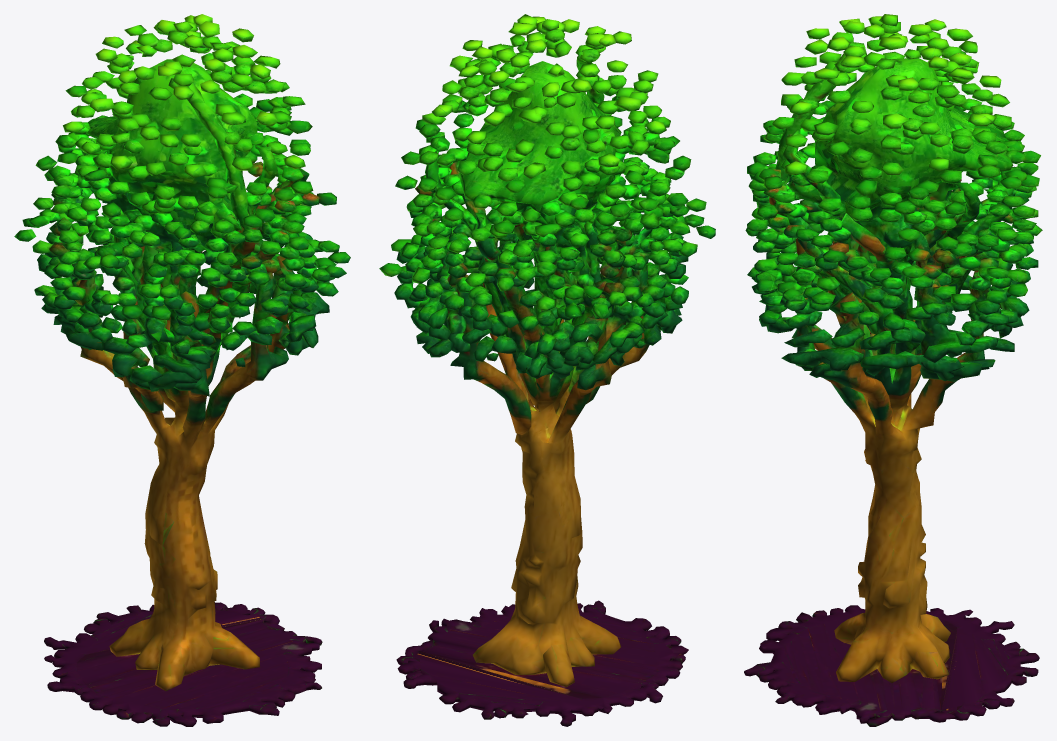
The model's file is emerald_canopy_1.glb.
3 renders of one model, left to right at view 1: azimuth 30°, elevation 25°; view 2: azimuth 150°, elevation 25°; view 3: azimuth 270°, elevation 25°, orthographic.
Size of the model in its own units: 0.7789 by 1.9 by 0.7906.
1 material, 1 textured.
